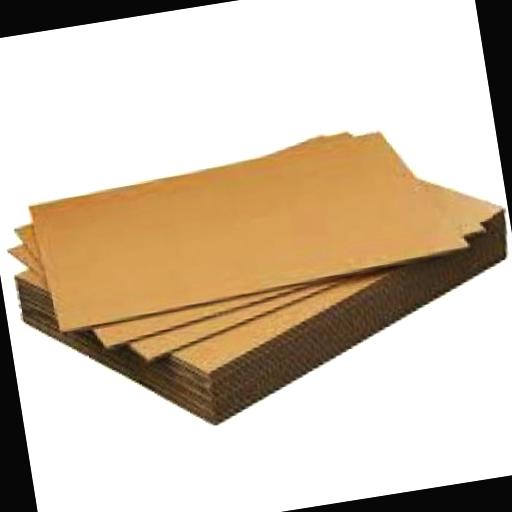cardboard: (11, 168, 512, 452), (8, 108, 499, 358), (9, 165, 512, 384), (26, 116, 476, 338)
